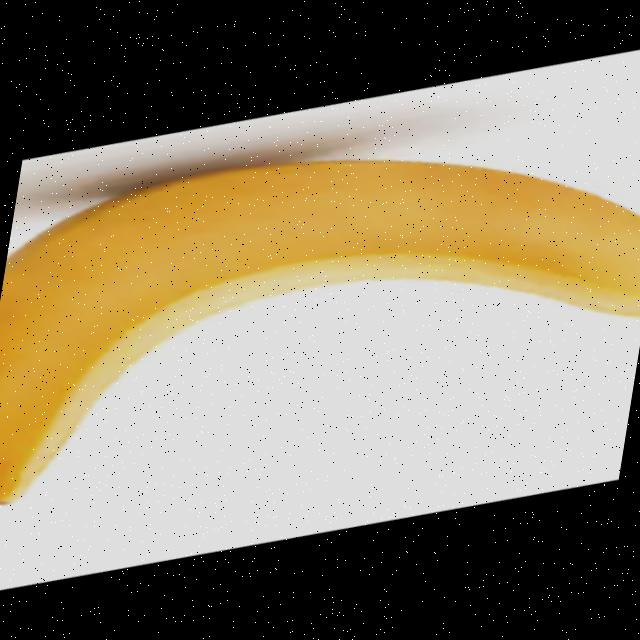Ripe: (0, 91, 640, 606)
